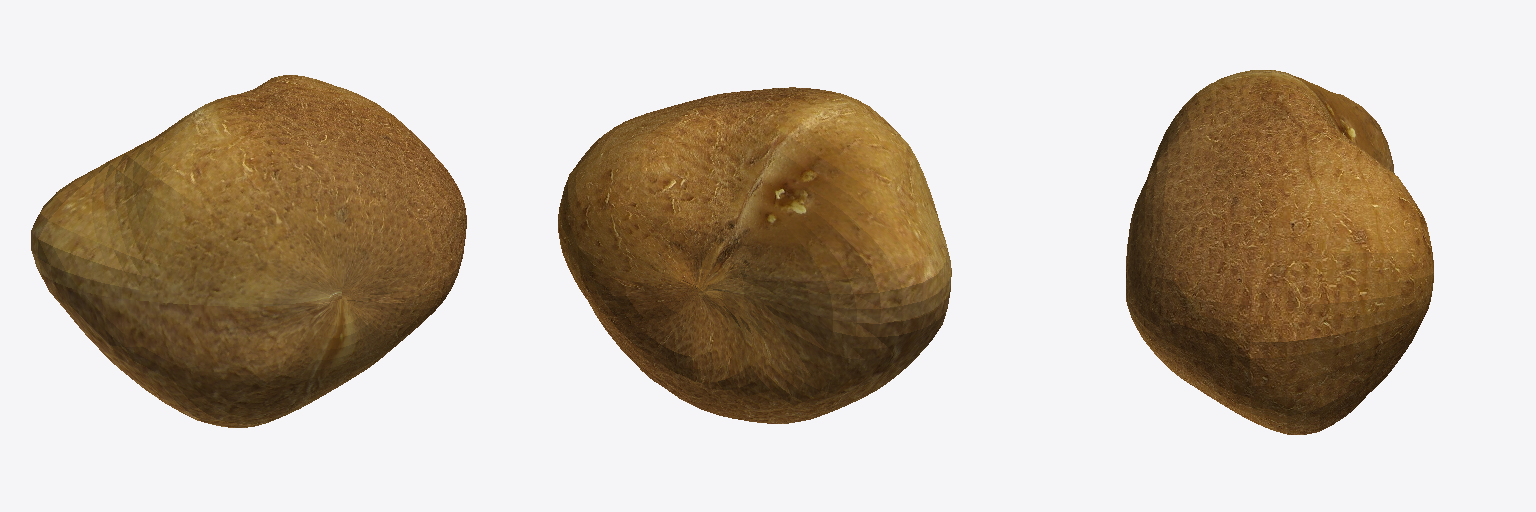
3 views of the same model, side by side, from view 1: azimuth 30°, elevation 25°; view 2: azimuth 150°, elevation 25°; view 3: azimuth 270°, elevation 25° (orthographic).
Parts seen in each view (by area): view 1: Mesh_Mesh_deimos; view 2: Mesh_Mesh_deimos; view 3: Mesh_Mesh_deimos.
Boxes of the visible parts, <box> form: Mesh_Mesh_deimos: <box>31,75,466,427</box>; Mesh_Mesh_deimos: <box>558,87,951,423</box>; Mesh_Mesh_deimos: <box>1126,70,1433,434</box>.
Bounding box in the file's own units: 2 × 1.58 × 1.38.
1 materials, 1 textured.